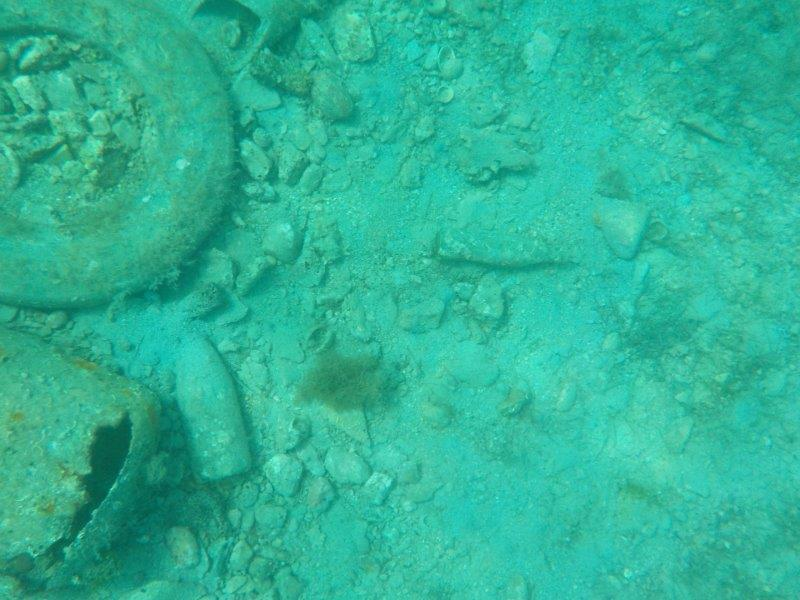bottle: (169, 328, 256, 482), (430, 223, 578, 272)
tire: (1, 1, 241, 314)
